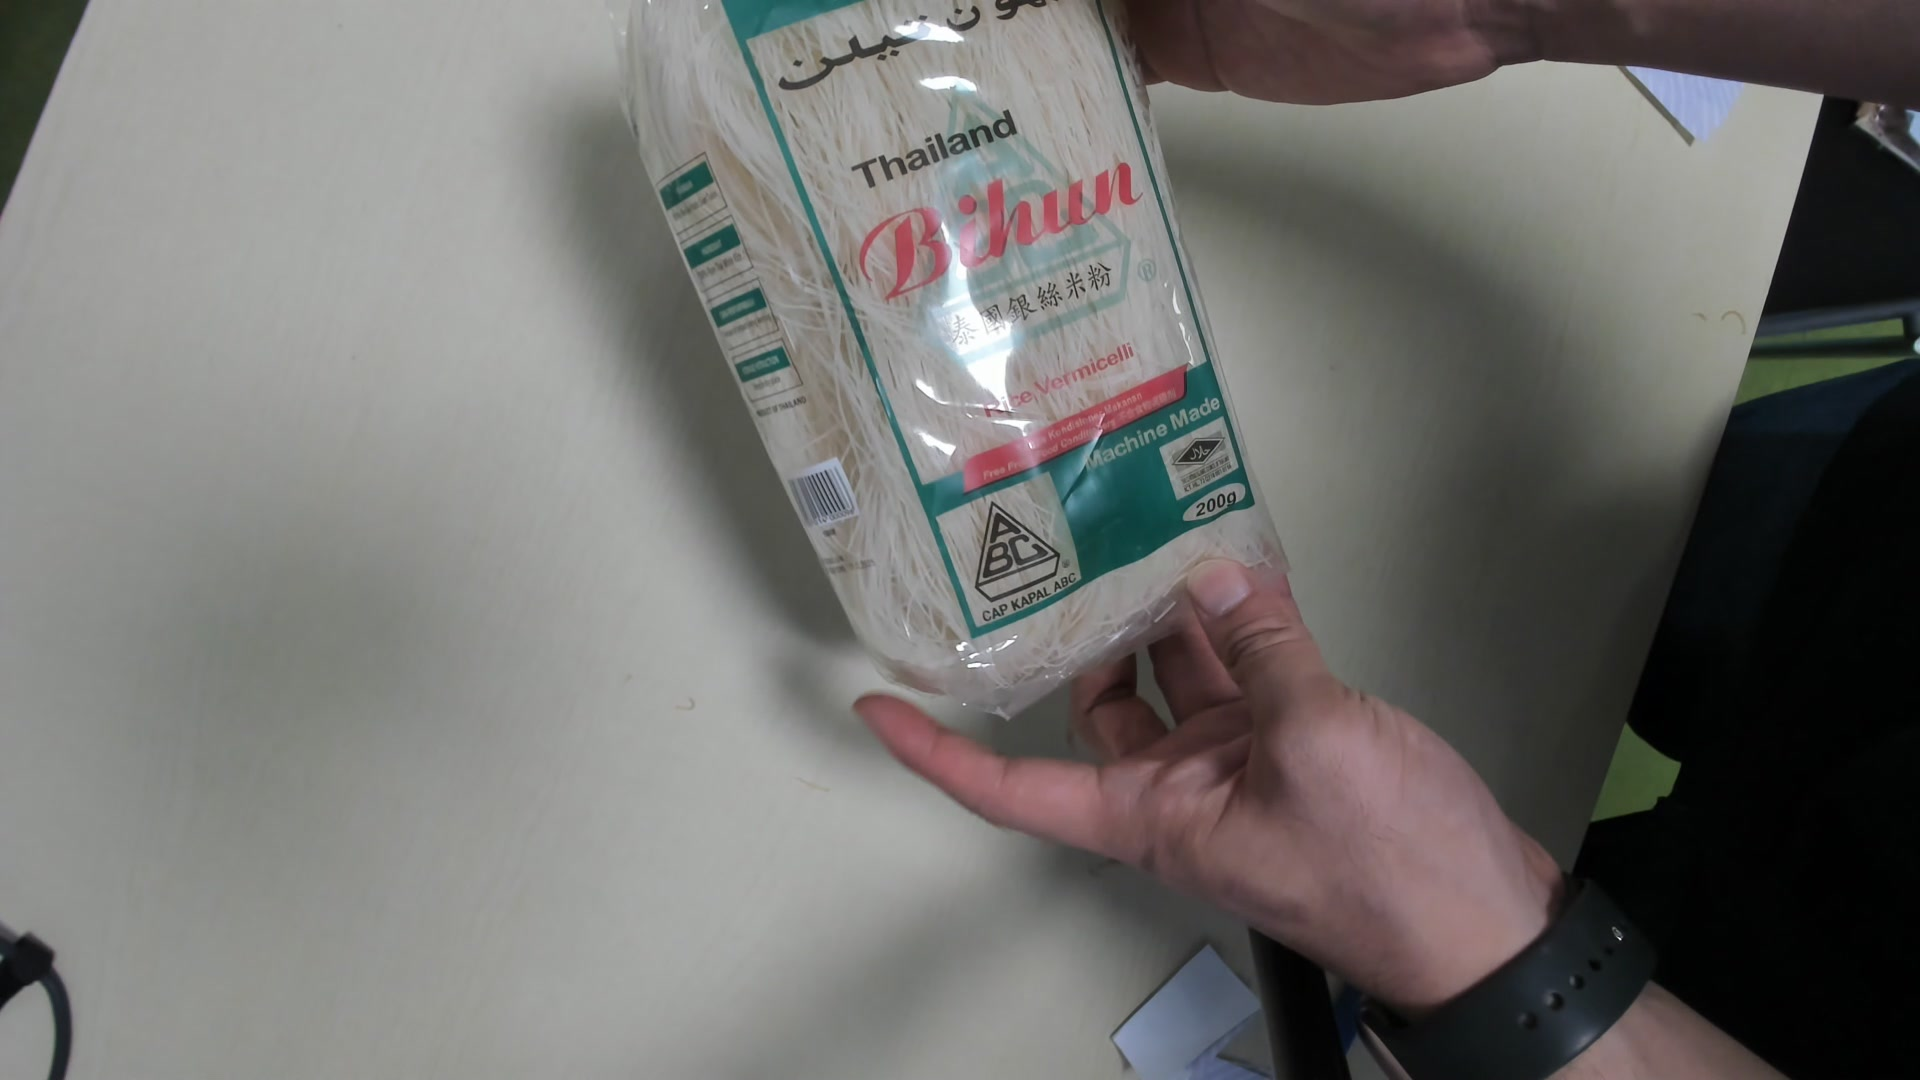BeeHoonVermicelli_200-299g_Halal_NonHealthy: (622, 5, 1283, 723)
